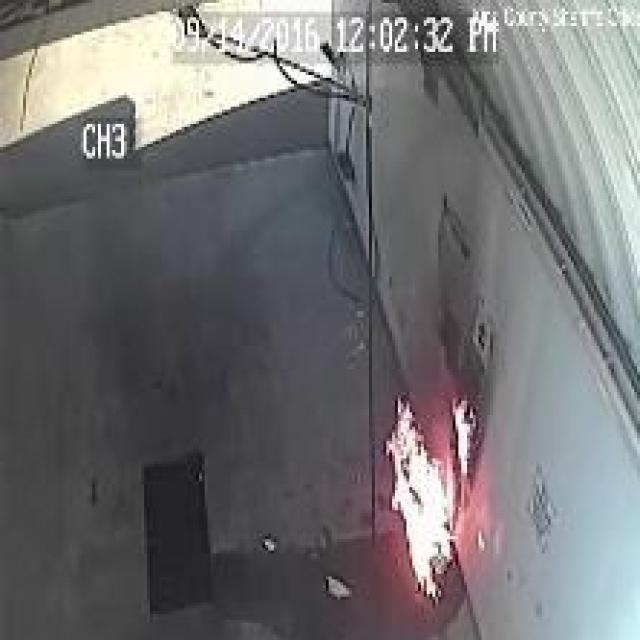smoke: (384, 381, 491, 608)
